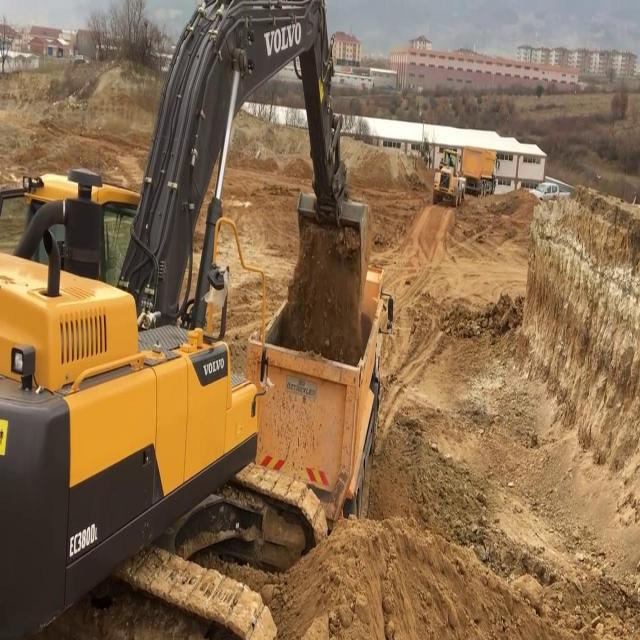Dump Truck: (245, 260, 383, 532), (461, 143, 499, 196)
Excavator: (0, 0, 373, 637)
Loader: (432, 148, 465, 206)
